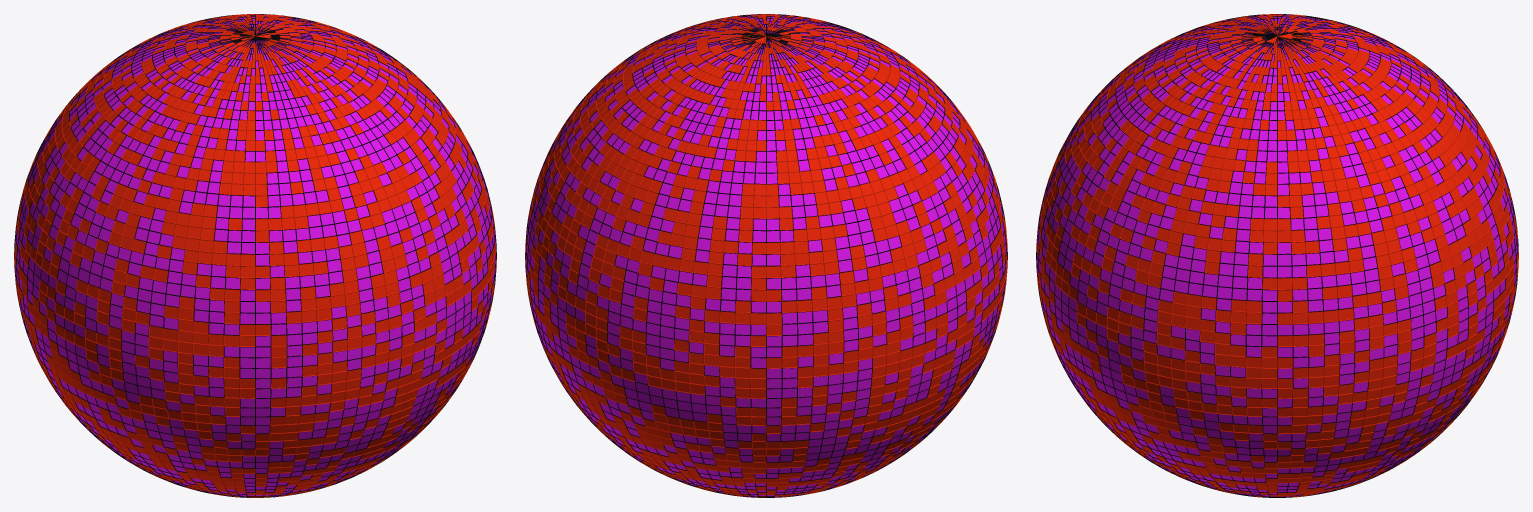
File: qqqqqq.fbx
3 views of the same model, side by side, from view 1: azimuth 30°, elevation 25°; view 2: azimuth 150°, elevation 25°; view 3: azimuth 270°, elevation 25° (orthographic).
Parts seen in each view (by area): view 1: Sphere; view 2: Sphere; view 3: Sphere.
Boxes of the visible parts, x1=… form: Sphere: x1=14, y1=14, x2=496, y2=497; Sphere: x1=525, y1=14, x2=1007, y2=497; Sphere: x1=1036, y1=14, x2=1518, y2=497.
Bounding box in the file's own units: 200 × 200 × 200.
